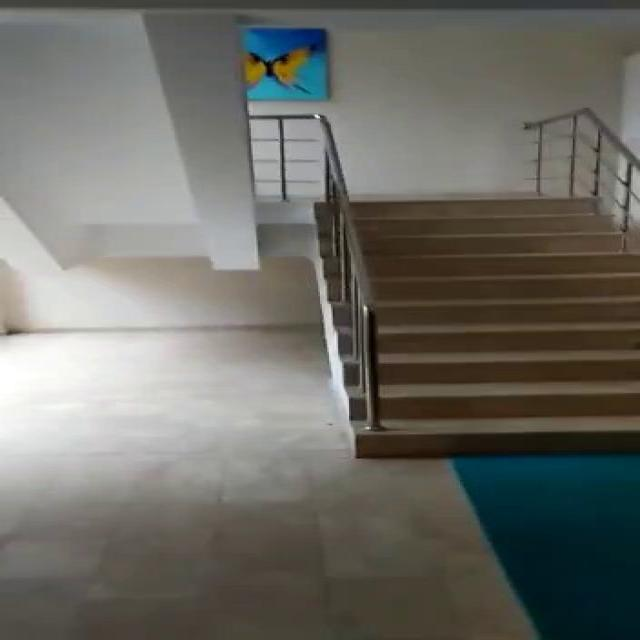stair: (301, 192, 640, 463)
